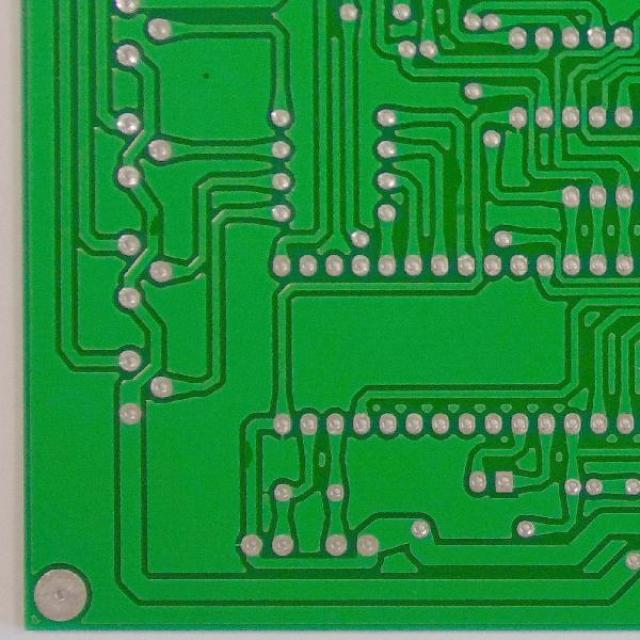MouseBite: (241, 435, 260, 476), (452, 154, 470, 197), (144, 210, 163, 242)
